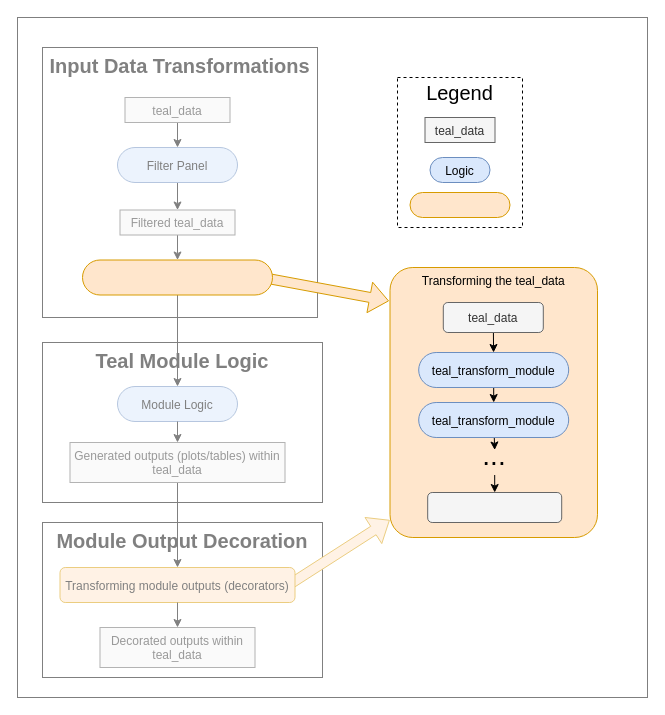
This 665x715 diagram has some shape labels left out. Each missing label, with the centre of its shape:
Transform Logic: the point at 459,205
Transform Panel (transformators): the point at 177,277
transformed teal_data: the point at 494,507
